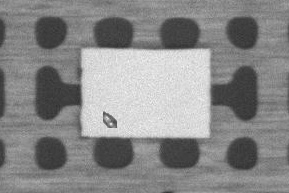DIE_INK: (101, 109, 117, 128)
